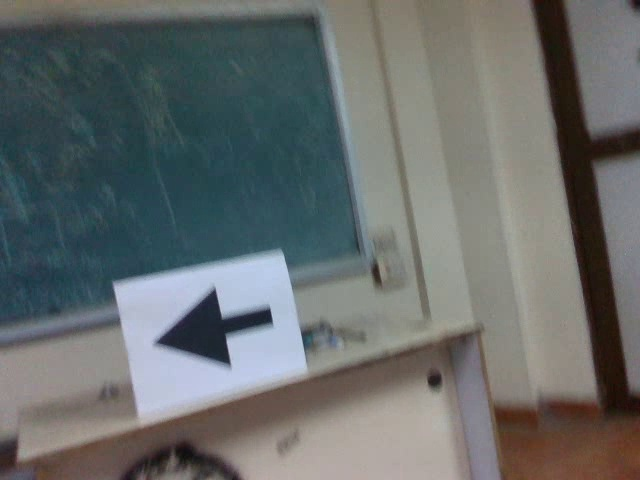Left: (151, 283, 273, 372)
